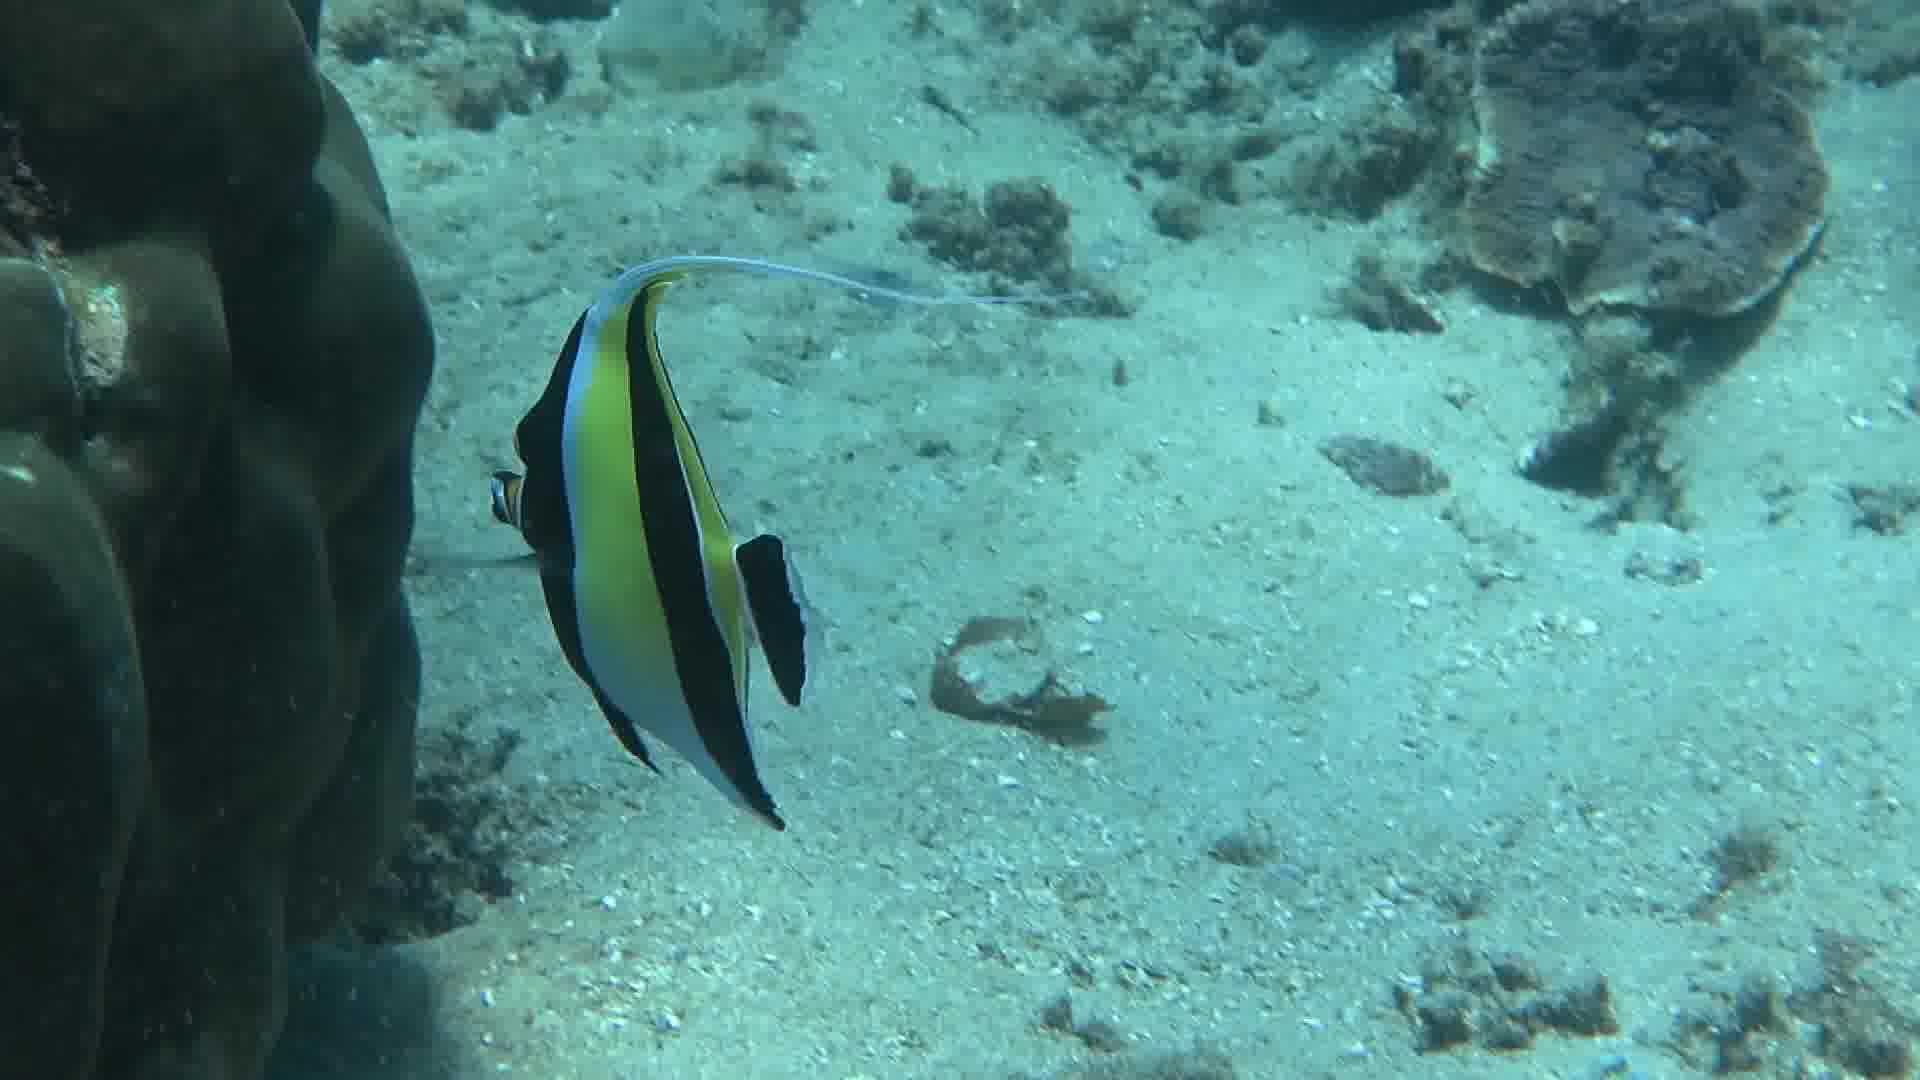Zanclus cornutus: (458, 251, 833, 795)
